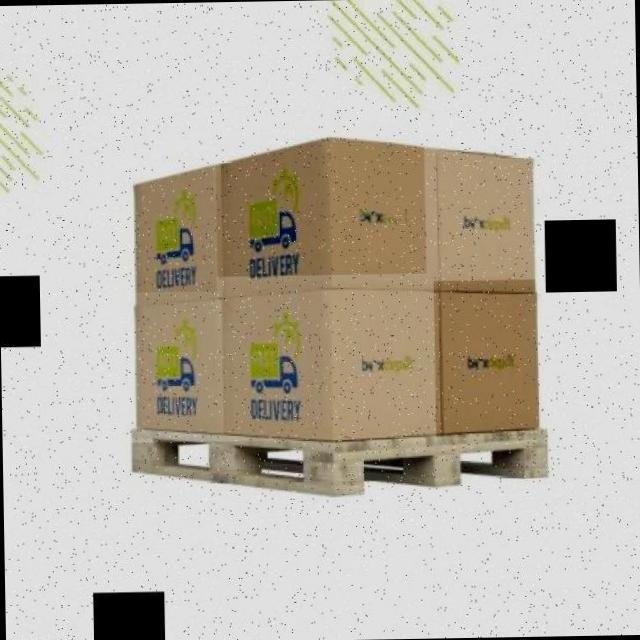box: (216, 273, 439, 442), (215, 132, 438, 294), (424, 136, 542, 298), (432, 278, 542, 438), (126, 290, 224, 442), (125, 164, 218, 301)
